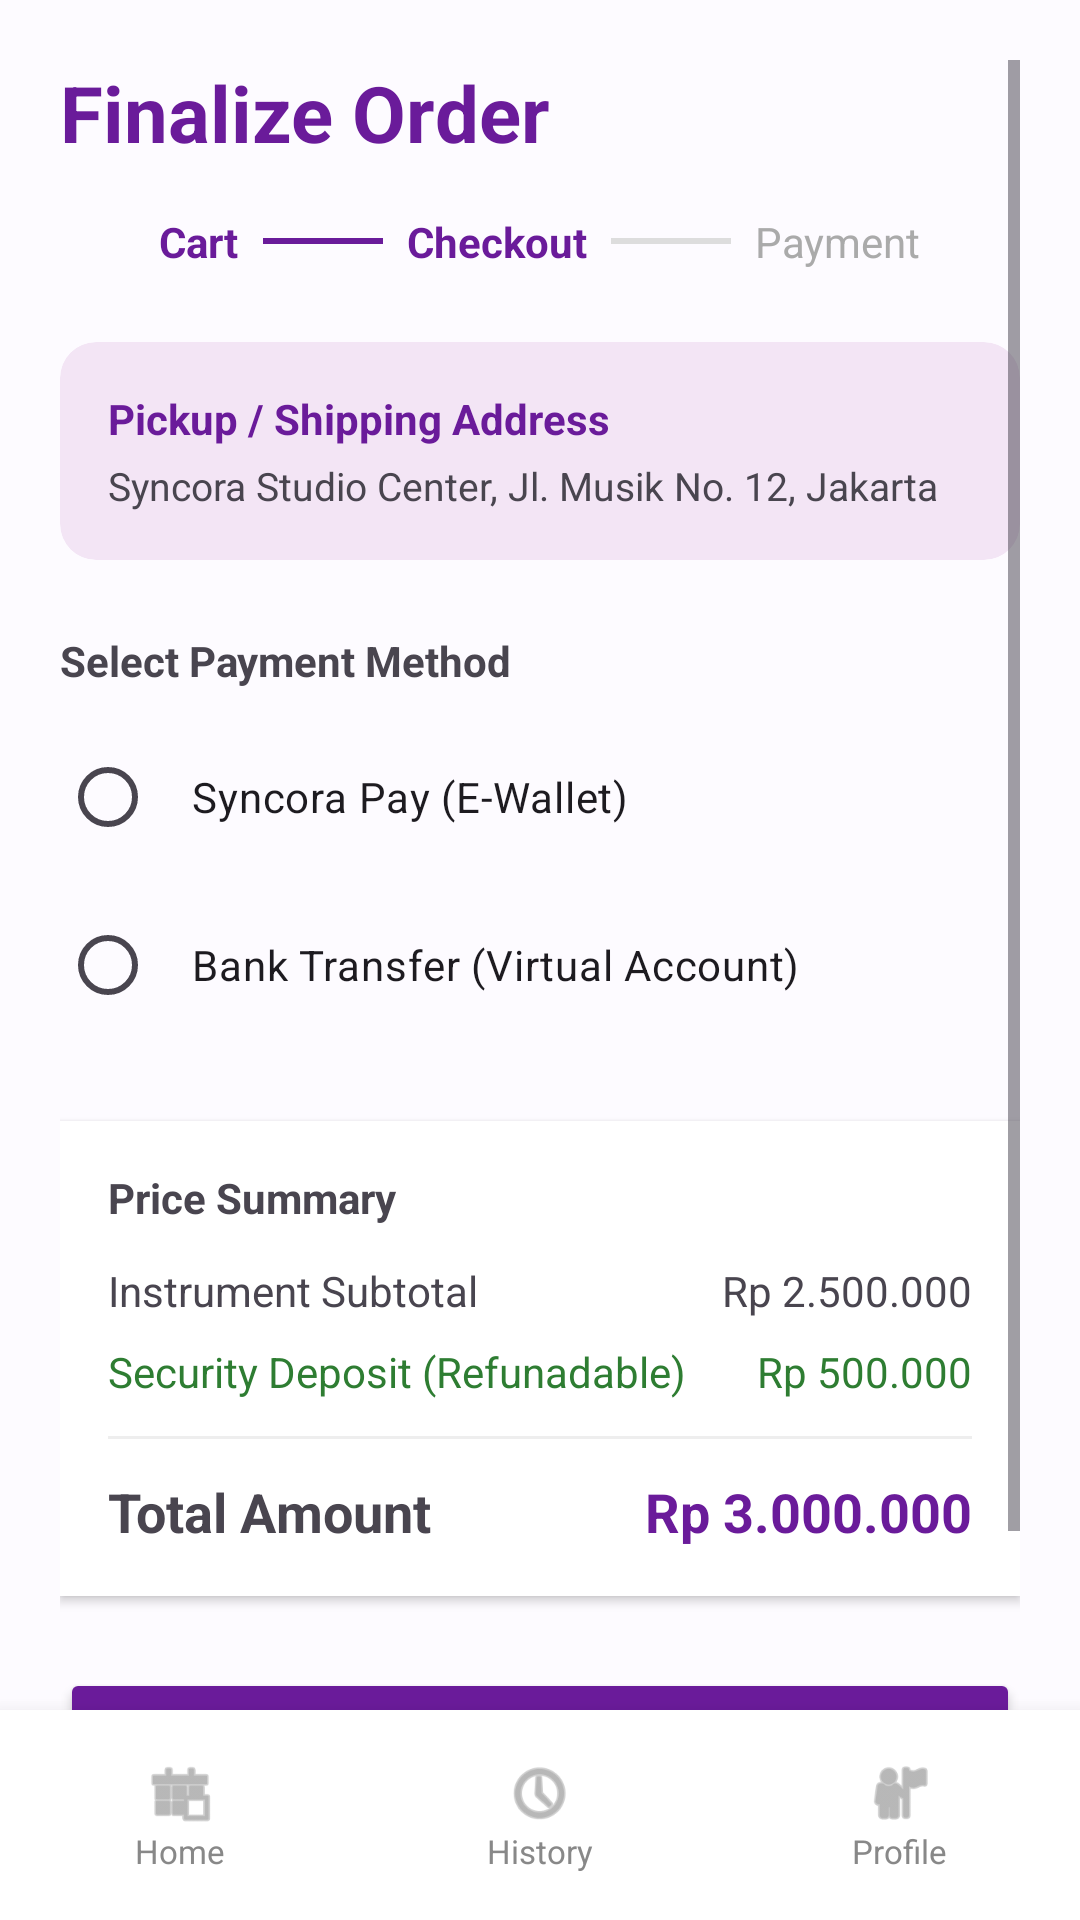

Screen size 1080*1920. Icon name, then its center in pixels as (x=x, y=y):
myplaces: (x=901, y=1793)
today: (x=180, y=1794)
